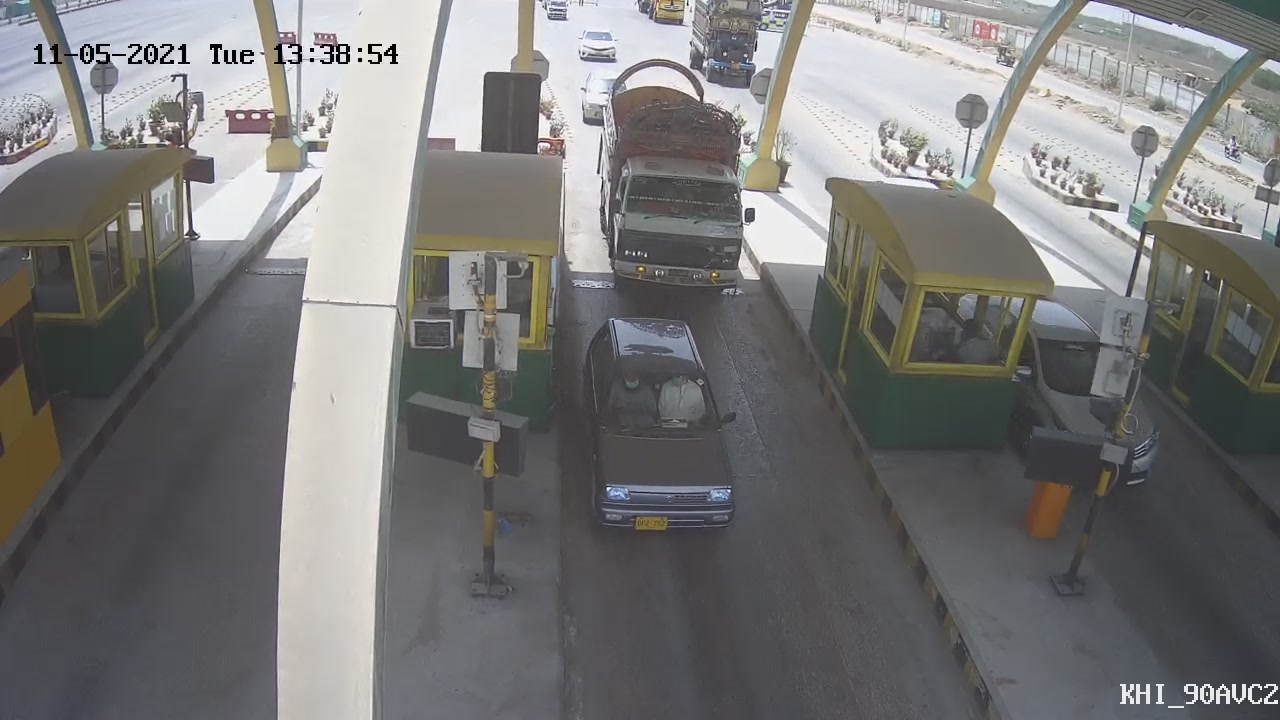F5: (593, 55, 760, 305)
